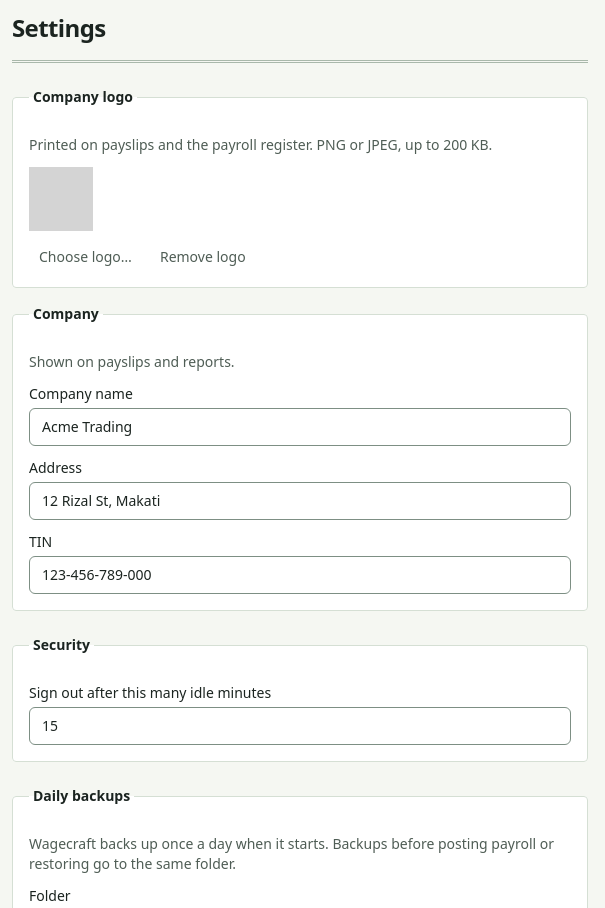
Test: SettingsPage › removes the logo
Step 1. Click the button "Remove logo" → [203, 257], box [150,243,256,271]
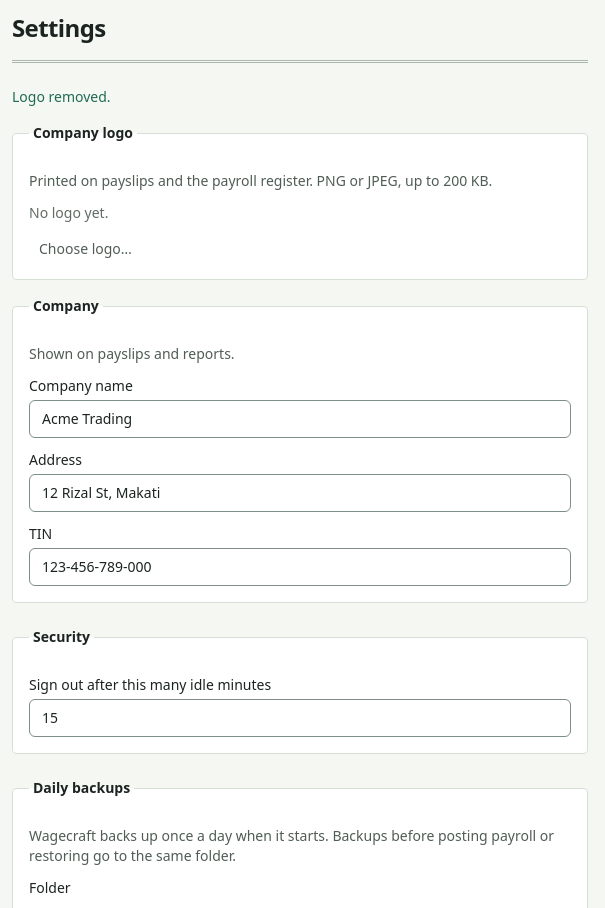
Expected: the message reads "Logo removed.", [12,87,111,106]
Expected: the text "No logo yet." is shown, [29,203,108,222]
